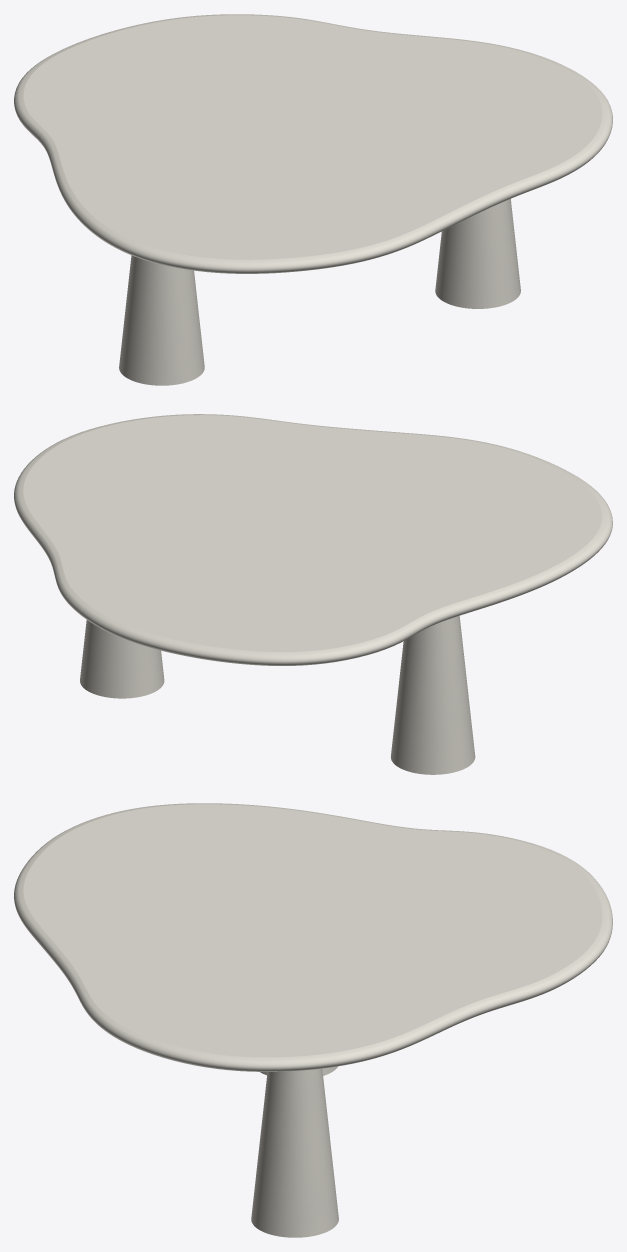
File: pale_topone_round_pebble.glb
The picture shows the model from 3 angles, top to bottom: view 1: azimuth 30°, elevation 25°; view 2: azimuth 150°, elevation 25°; view 3: azimuth 270°, elevation 25°; orthographic projection. The views are drawn at different scales.
Parts seen in each view (by area): view 1: round_topone, pebble; view 2: round_topone, pebble; view 3: round_topone, pebble.
Part boxes in pixels (box(x1,y1,x2,y2)): round_topone: box(14, 14, 612, 273); pebble: box(119, 199, 520, 385); round_topone: box(14, 414, 612, 665); pebble: box(80, 616, 475, 774); round_topone: box(14, 803, 612, 1071); pebble: box(251, 1066, 338, 1237).
Bounding box in the file's own units: 6.83 × 2.5 × 6.6.
1 material, 1 textured.
